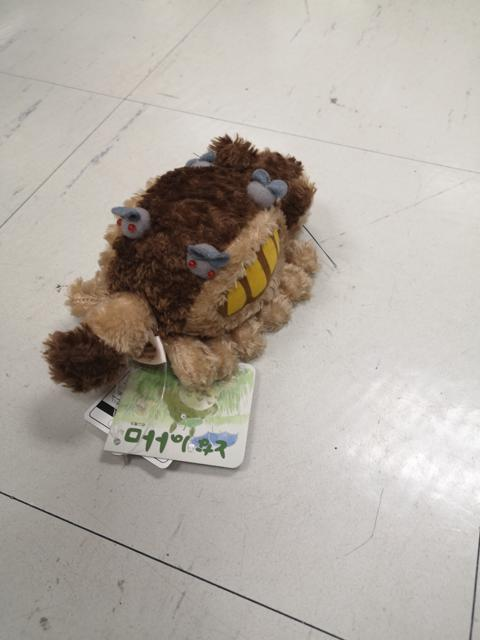nekobus: (35, 125, 334, 405)
